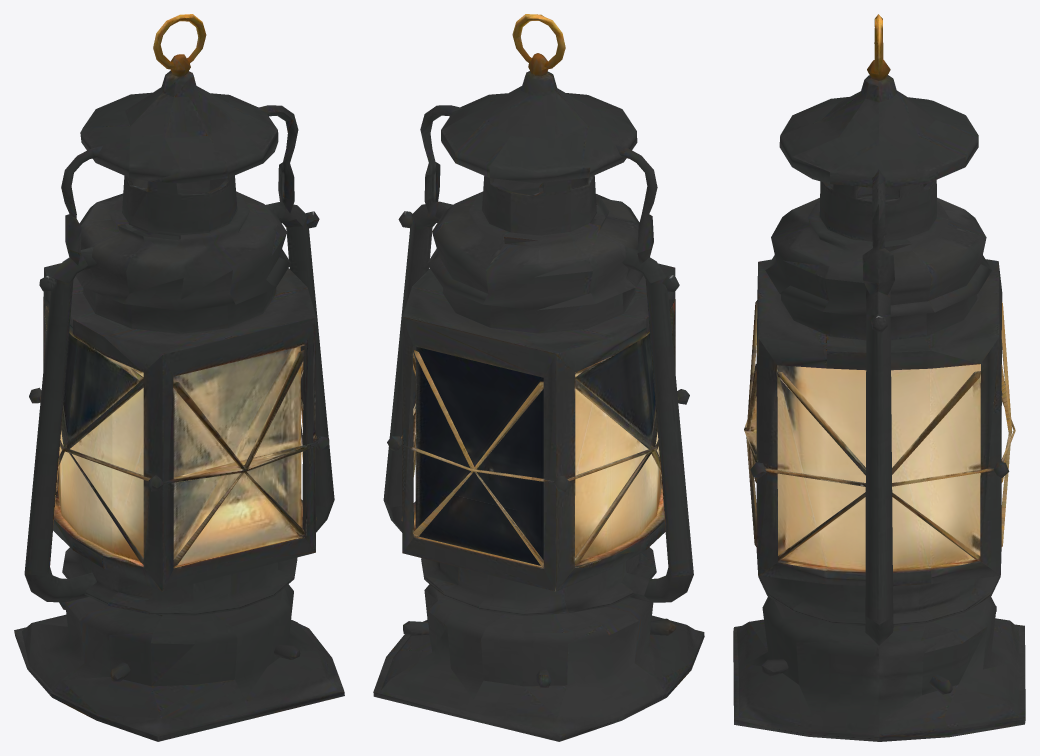
Rendered from lantern.glb.
The picture shows the model from 3 angles, left to right: view 1: azimuth 30°, elevation 25°; view 2: azimuth 150°, elevation 25°; view 3: azimuth 270°, elevation 25°; orthographic projection.
Size of the model in its own units: 0.1893 by 0.38 by 0.1525.
1 material, 1 textured.
